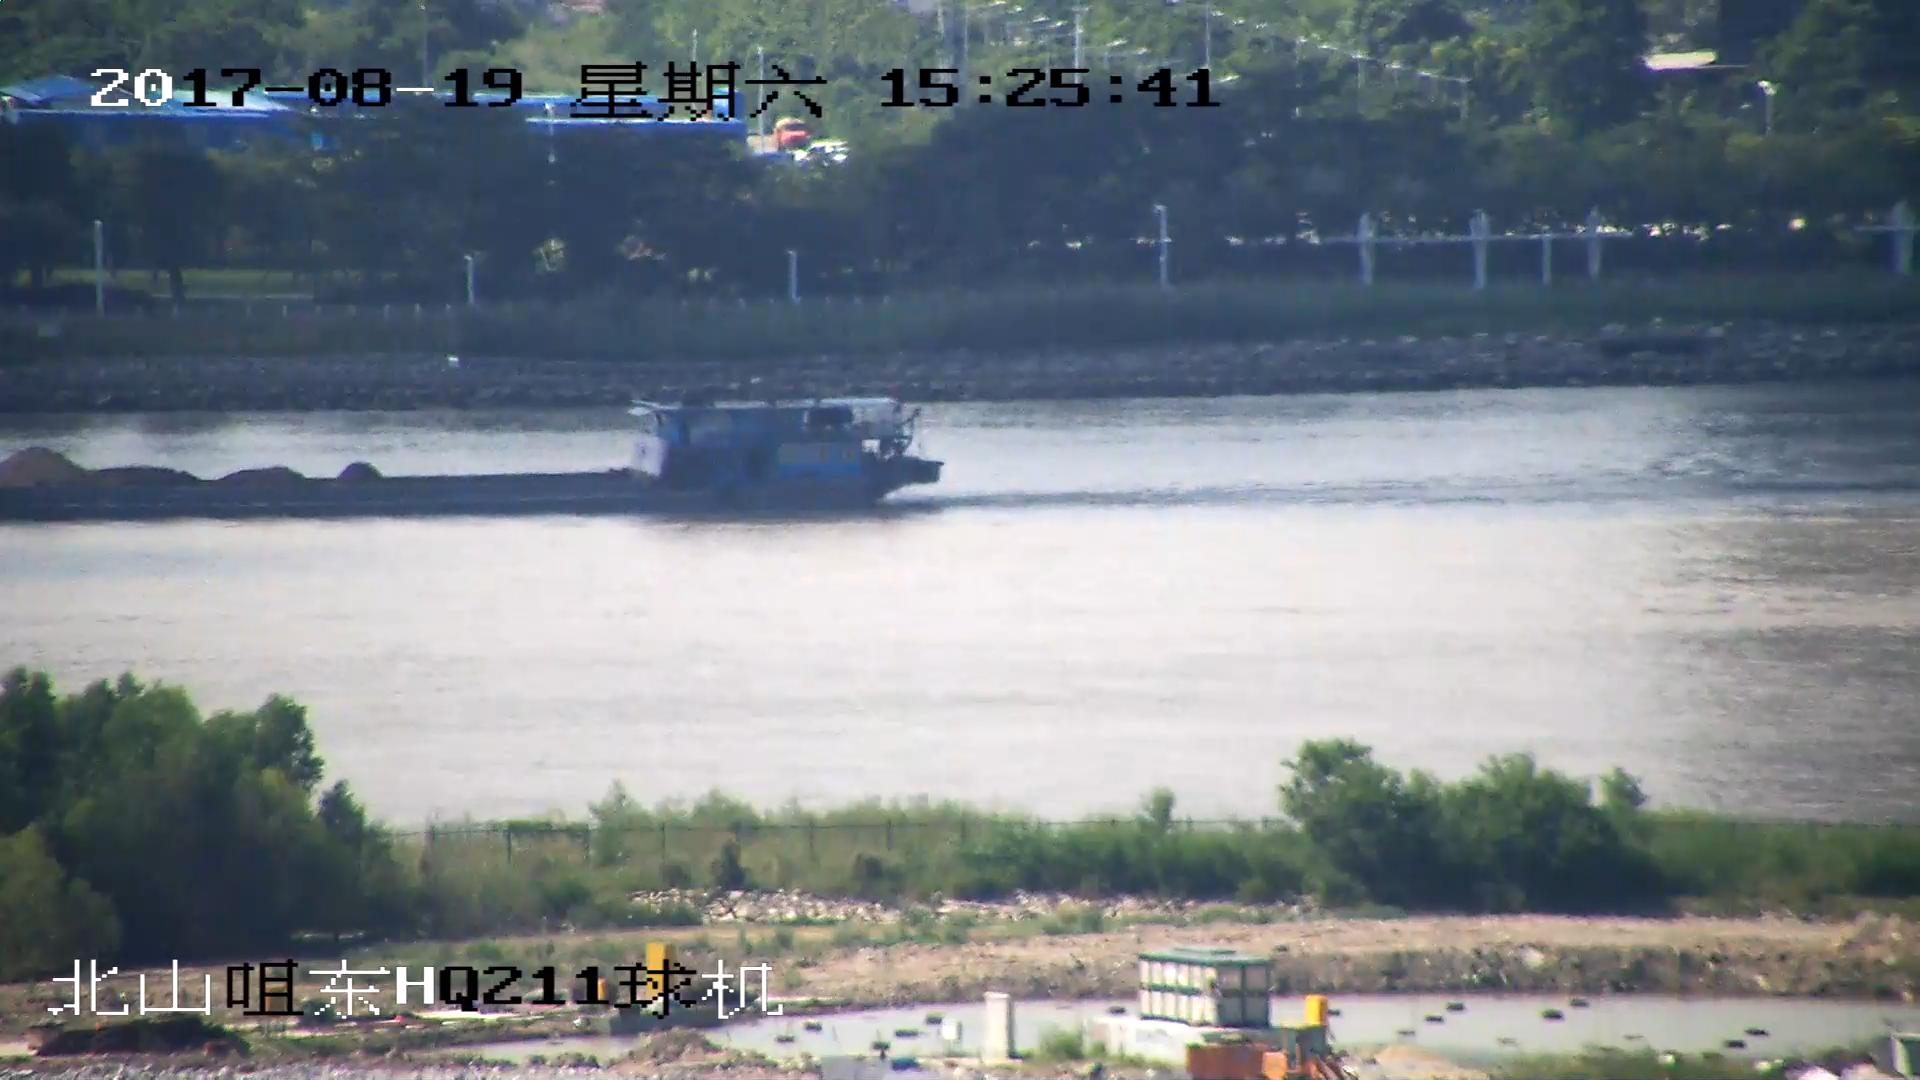ore carrier: (1, 386, 940, 526)
